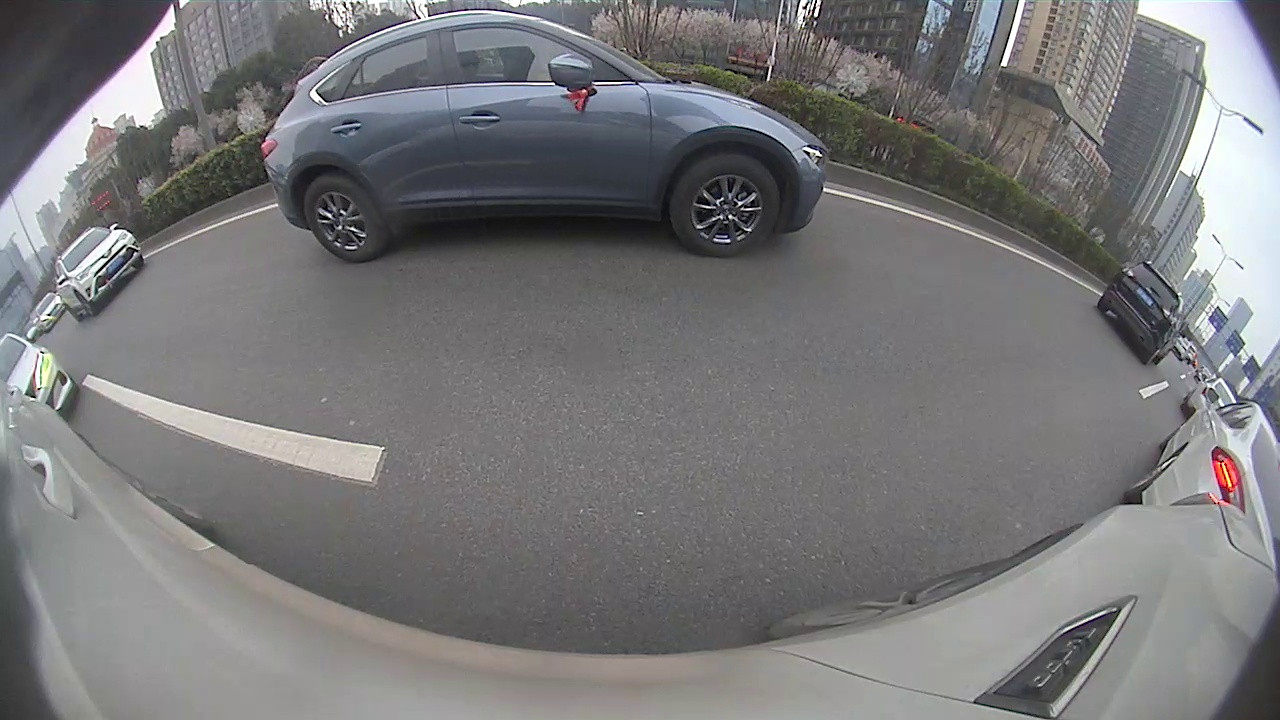car: (258, 9, 833, 266), (1118, 387, 1278, 573), (1096, 258, 1189, 367), (51, 221, 146, 323)
front: (673, 157, 780, 255)
rear: (302, 176, 384, 263)
